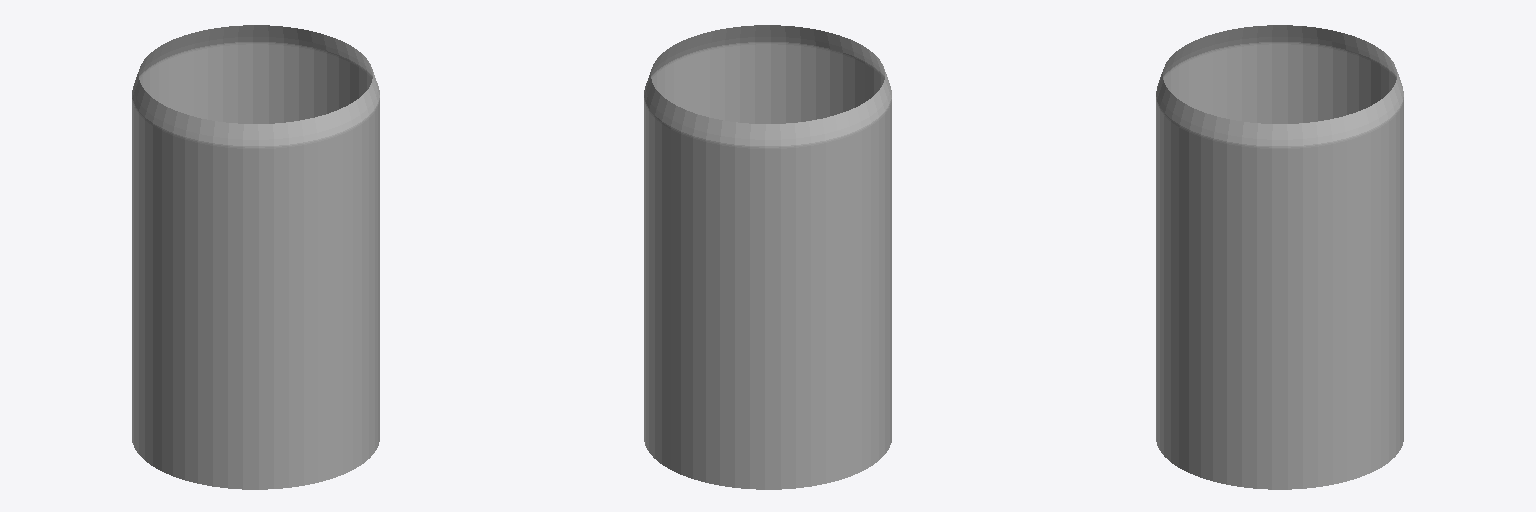
Rendered from duffmiddle_005.obj.
3 views of the same model, side by side, from view 1: azimuth 30°, elevation 25°; view 2: azimuth 150°, elevation 25°; view 3: azimuth 270°, elevation 25° (orthographic).
Visible parts, largest first — view 1: duffmiddle.005; view 2: duffmiddle.005; view 3: duffmiddle.005.
Boxes of the visible parts, box(x1,y1,x2,y2) form: duffmiddle.005: box(132, 25, 379, 489); duffmiddle.005: box(644, 25, 891, 489); duffmiddle.005: box(1156, 25, 1403, 489).
Bounding box in the file's own units: 180 × 290 × 180.